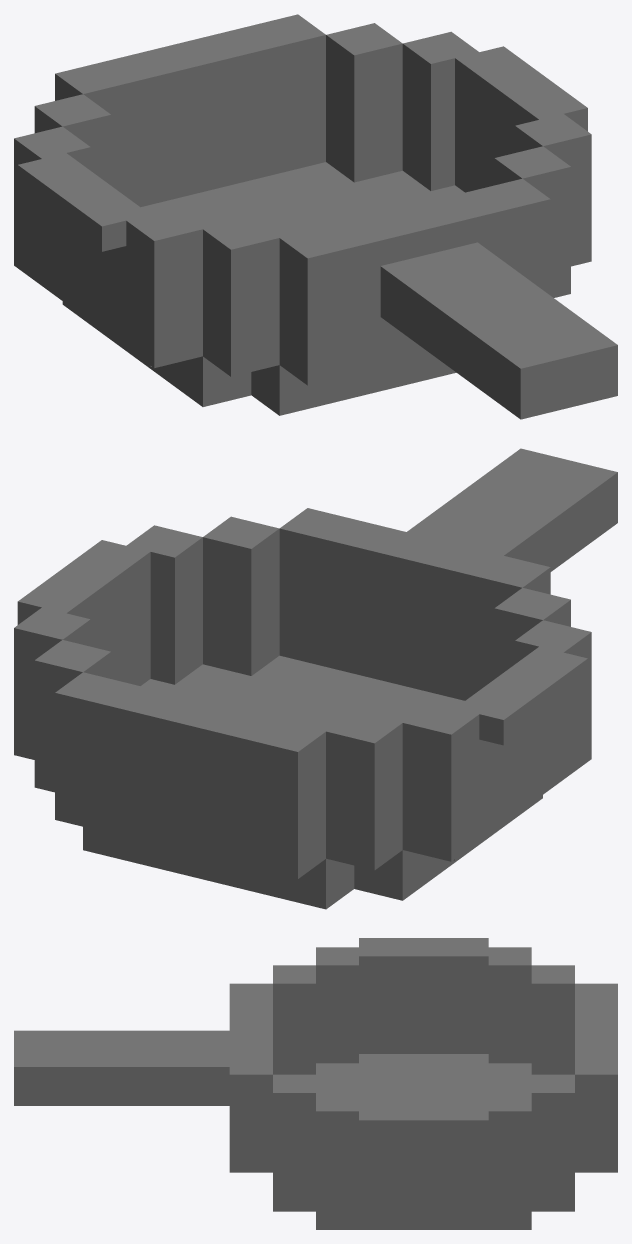
File: memorial-table.vox-1-fryingpan.obj
The picture shows the model from 3 angles, top to bottom: view 1: azimuth 30°, elevation 25°; view 2: azimuth 150°, elevation 25°; view 3: azimuth 270°, elevation 25°; orthographic projection. The views are drawn at different scales.
Visible parts, largest first — view 1: fryingpan; view 2: fryingpan; view 3: fryingpan.
Boxes of the visible parts, left/top/right/bottom form: fryingpan: left=14, top=14, right=617, bottom=419; fryingpan: left=14, top=448, right=617, bottom=909; fryingpan: left=14, top=938, right=617, bottom=1229.
Size of the model in its own units: 2 by 0.7 by 2.8.
1 material, 1 textured.
